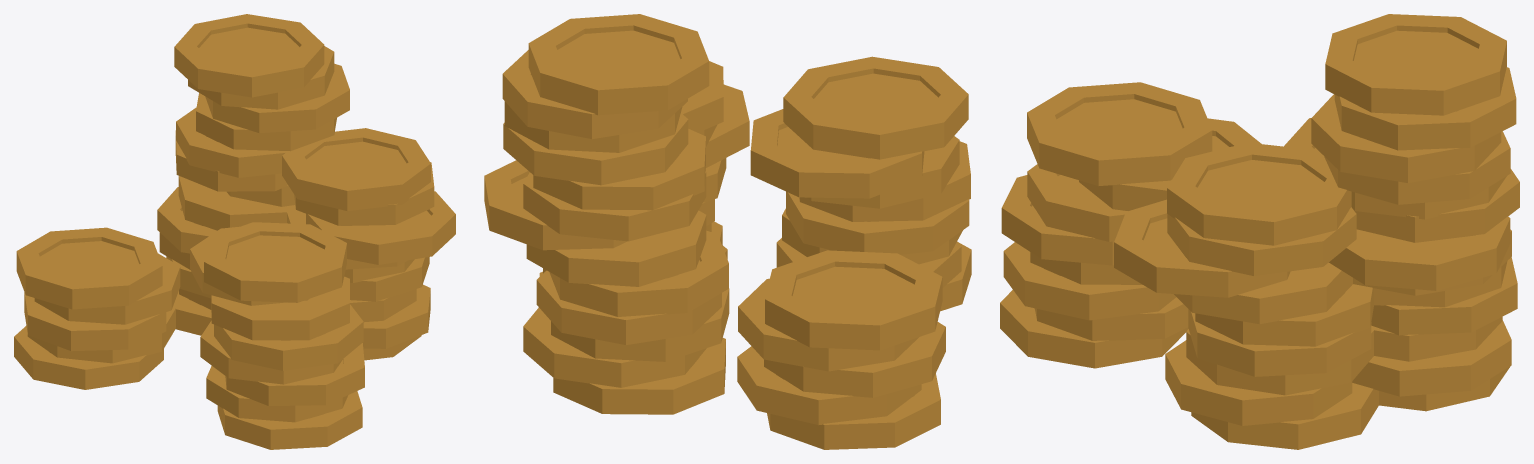
Rendered from Coin_Pile.glb.
3 renders of one model, left to right at view 1: azimuth 30°, elevation 25°; view 2: azimuth 150°, elevation 25°; view 3: azimuth 270°, elevation 25°, orthographic. The views are drawn at different scales.
Parts seen in each view (by area): view 1: Coin_Pile; view 2: Coin_Pile; view 3: Coin_Pile.
Boxes of the visible parts, bbox=[...] form: Coin_Pile: bbox=[14, 14, 455, 449]; Coin_Pile: bbox=[484, 14, 971, 449]; Coin_Pile: bbox=[1000, 14, 1519, 449].
Bounding box in the file's own units: 13.64 × 9.46 × 13.54.
